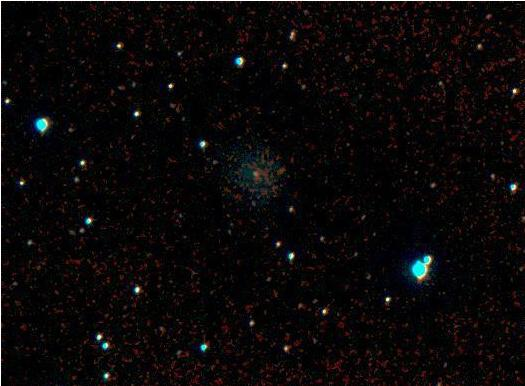star: (266, 155, 296, 185)
